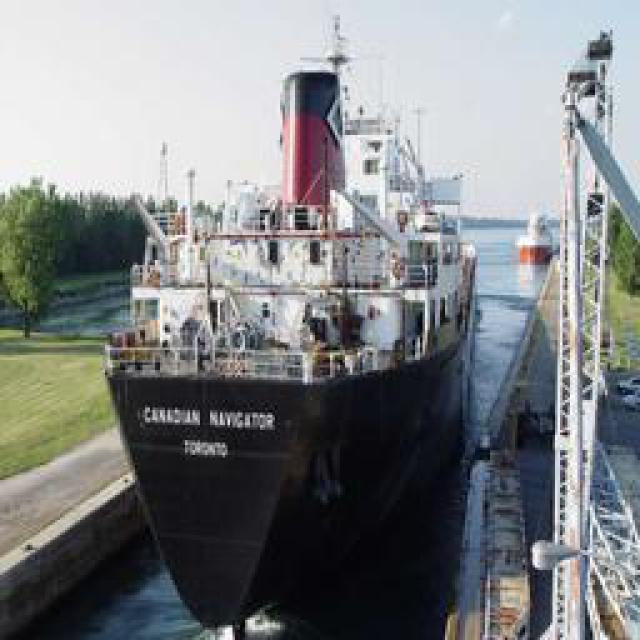Ship: (92, 16, 482, 601)
